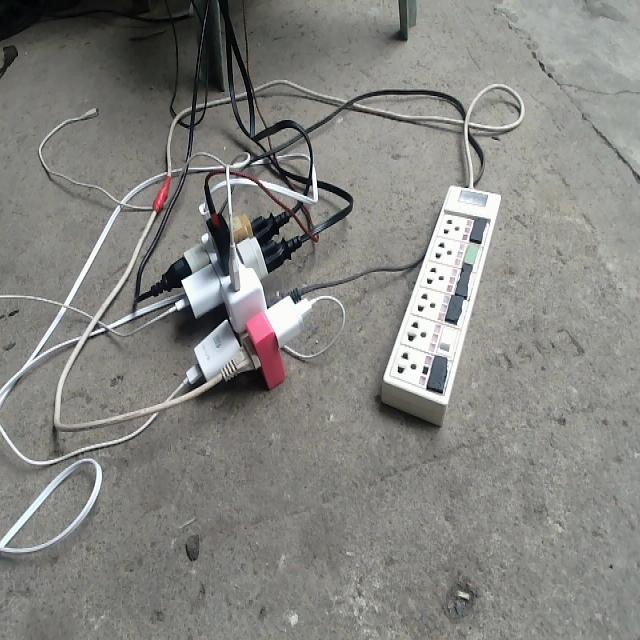-: (161, 200, 313, 389)
